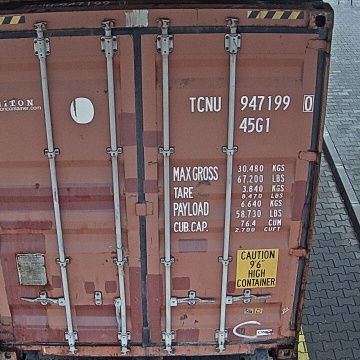serial_id: (188, 95, 312, 112)
